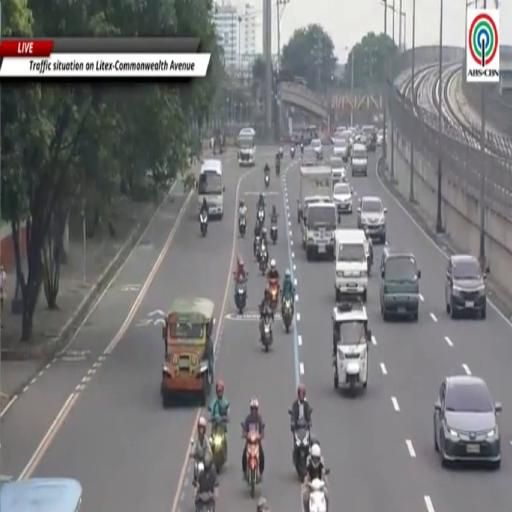bus: (198, 159, 224, 218)
car: (434, 376, 501, 469), (332, 298, 371, 392), (380, 248, 420, 321), (445, 254, 488, 318), (357, 197, 386, 243), (298, 196, 331, 222), (333, 183, 352, 215), (351, 142, 368, 177), (333, 138, 349, 162), (302, 147, 317, 166), (311, 139, 323, 160), (239, 127, 255, 137), (377, 131, 383, 147)
jeepney: (161, 298, 214, 407), (0, 478, 82, 511), (238, 135, 255, 166)
motorcycle: (244, 430, 260, 498), (294, 421, 310, 482), (210, 418, 227, 473), (309, 479, 326, 511), (261, 315, 272, 351), (282, 297, 293, 333), (235, 282, 247, 314), (195, 492, 215, 511), (269, 280, 279, 312), (259, 248, 268, 275), (253, 236, 261, 260), (200, 212, 208, 236), (238, 216, 246, 238), (257, 207, 265, 227), (270, 223, 277, 244), (255, 220, 263, 235), (264, 173, 269, 187), (276, 160, 280, 177), (290, 146, 295, 158), (279, 147, 283, 158), (300, 142, 303, 154)
